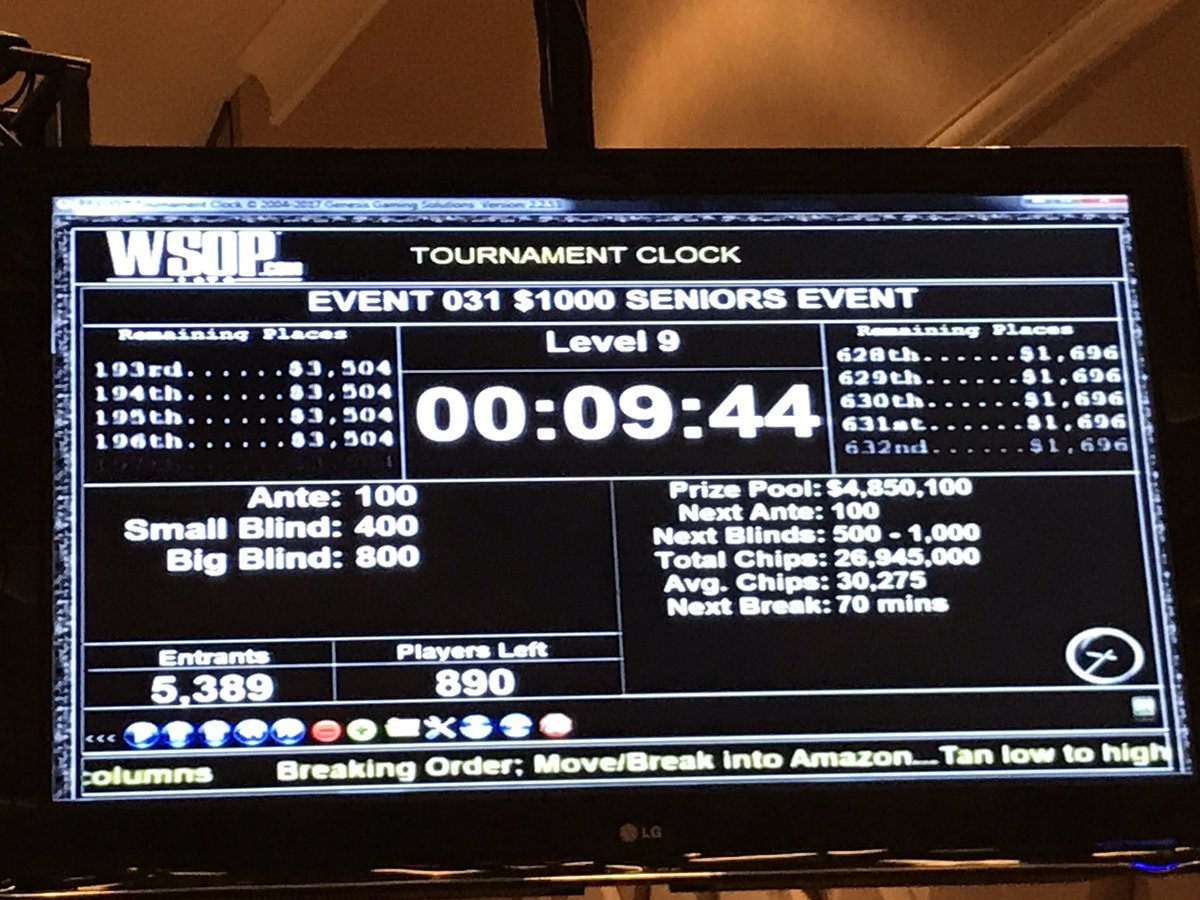PlayersLeft: (333, 627, 628, 701)
Remaining: (76, 323, 406, 483), (822, 316, 1140, 477)
TournamentClock: (67, 285, 1165, 717)
